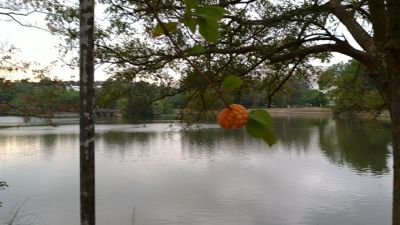eggs: (218, 102, 249, 129)
